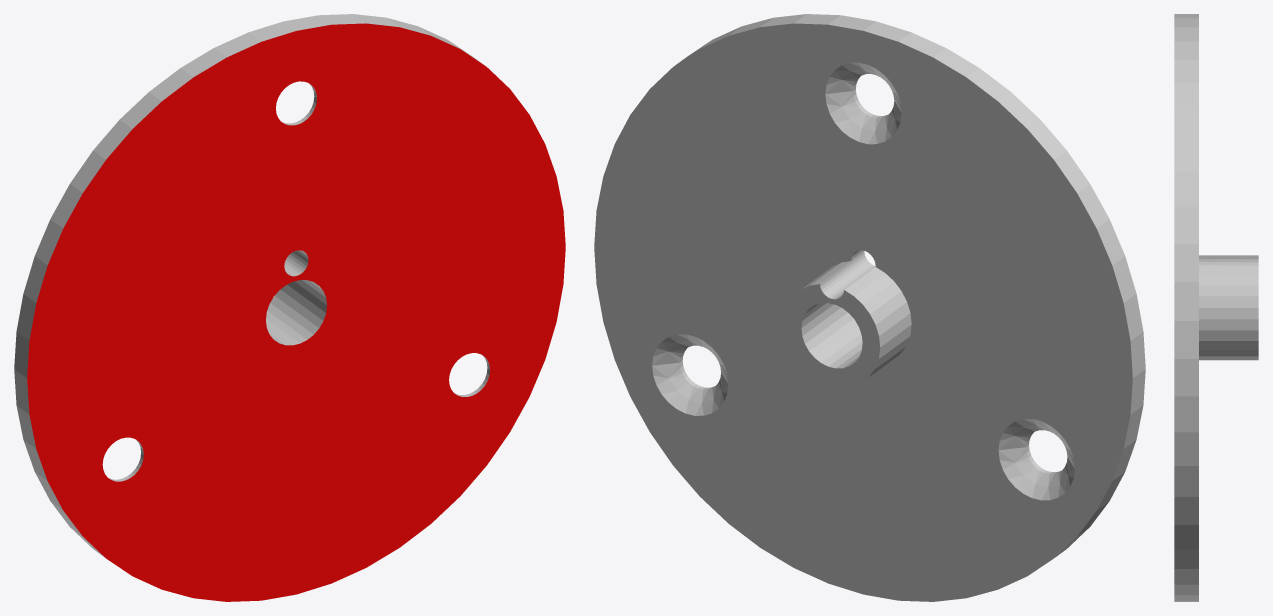
File: AE049670_step_13.obj
3 renders of one model, left to right at view 1: azimuth 30°, elevation 25°; view 2: azimuth 150°, elevation 25°; view 3: azimuth 270°, elevation 25°, orthographic. The views are drawn at different scales.
Visible parts, largest first — view 1: Object1; view 2: Object1; view 3: Object1.
Boxes of the visible parts, x1,y1,x2,y2 form: Object1: [14, 14, 565, 601]; Object1: [594, 14, 1145, 601]; Object1: [1174, 14, 1258, 601].
Size of the model in its own units: 44.45 by 44.45 by 6.35.
